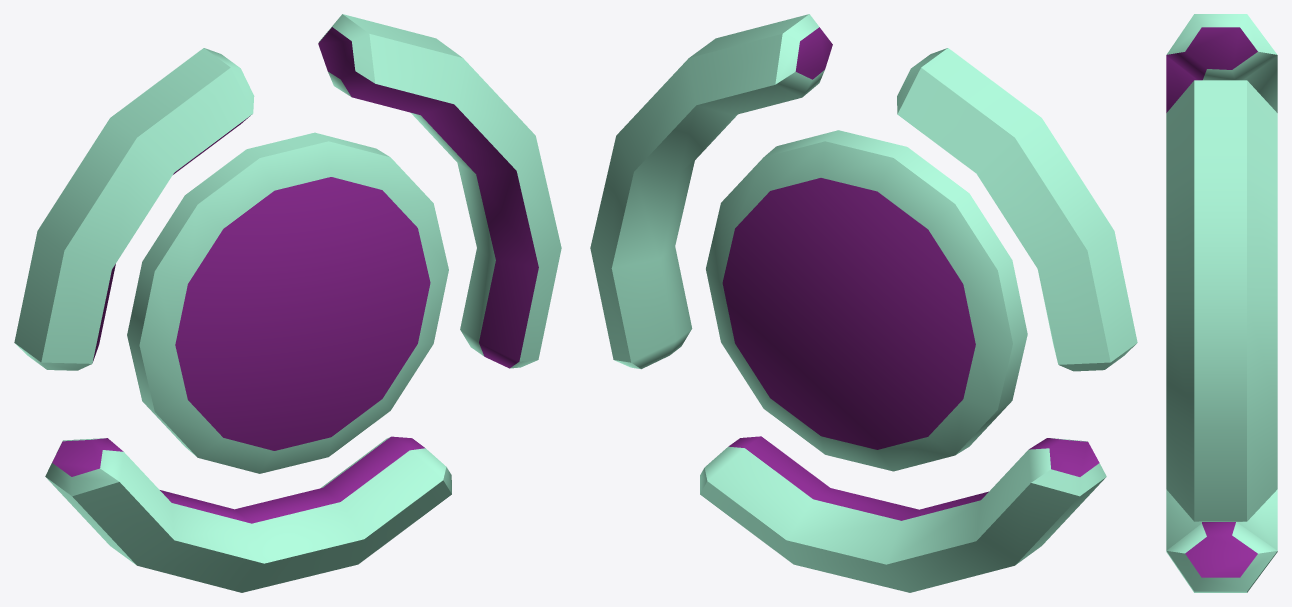
Rendered from OffPortal.fbx.
The picture shows the model from 3 angles, left to right: view 1: azimuth 30°, elevation 25°; view 2: azimuth 150°, elevation 25°; view 3: azimuth 270°, elevation 25°; orthographic projection.
Visible parts, largest first — view 1: Cylinder002; view 2: Cylinder002; view 3: Cylinder002.
Part boxes in pixels (x1,y1,x2,y2): Cylinder002: (14, 14, 561, 592); Cylinder002: (590, 14, 1137, 592); Cylinder002: (1166, 14, 1277, 592).
Bounding box in the file's own units: 0.000166 × 0.000161 × 3.13e-05.
